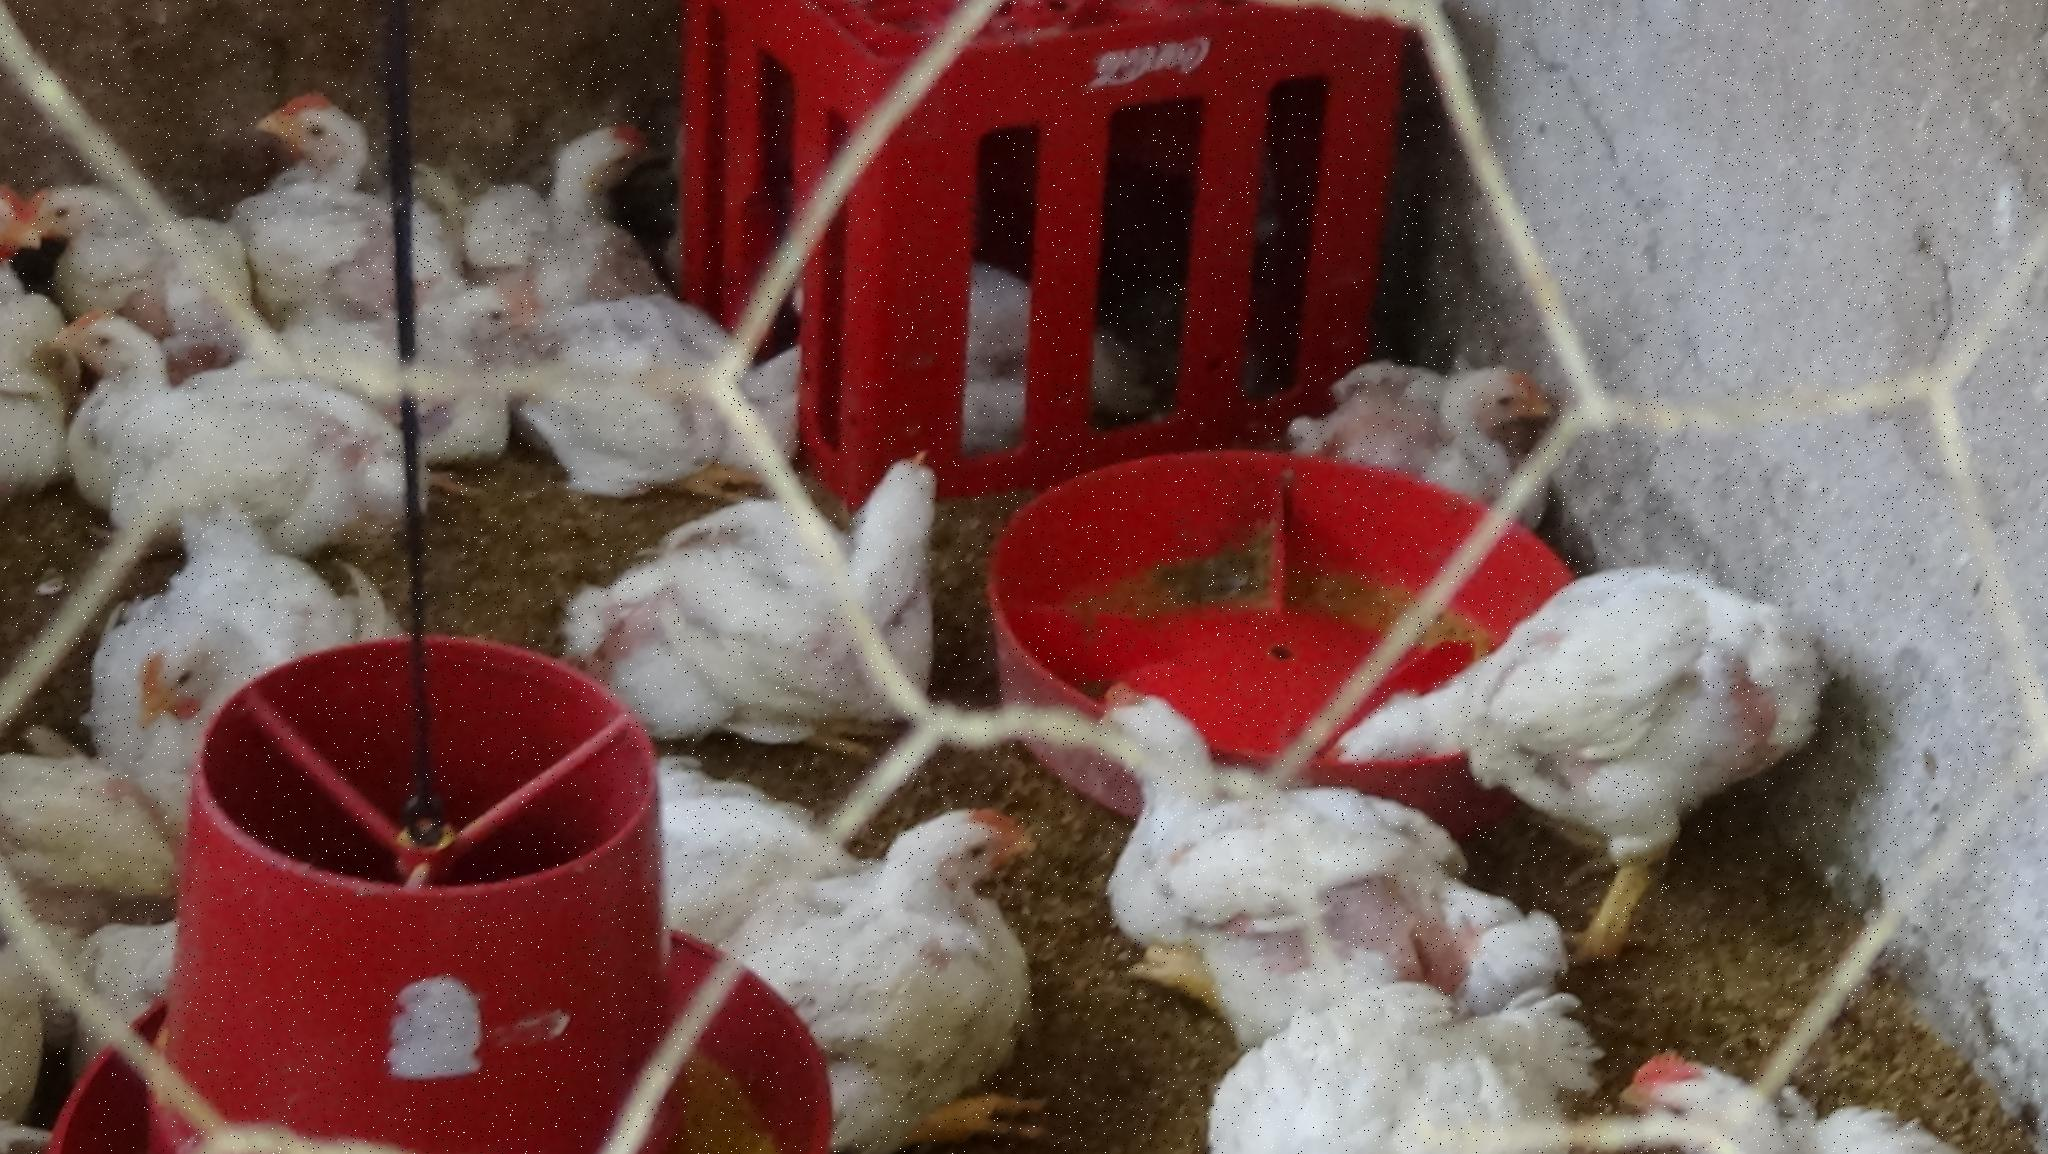Pollos: (1331, 552, 1822, 863), (617, 425, 1000, 737), (762, 780, 1094, 1127), (1052, 654, 1411, 961), (79, 552, 435, 780), (1274, 334, 1632, 529), (49, 305, 366, 508), (1220, 1002, 1589, 1154), (1605, 1006, 1890, 1154), (224, 68, 421, 236), (499, 125, 710, 251), (13, 172, 198, 294), (421, 270, 558, 387), (1, 144, 73, 310)
